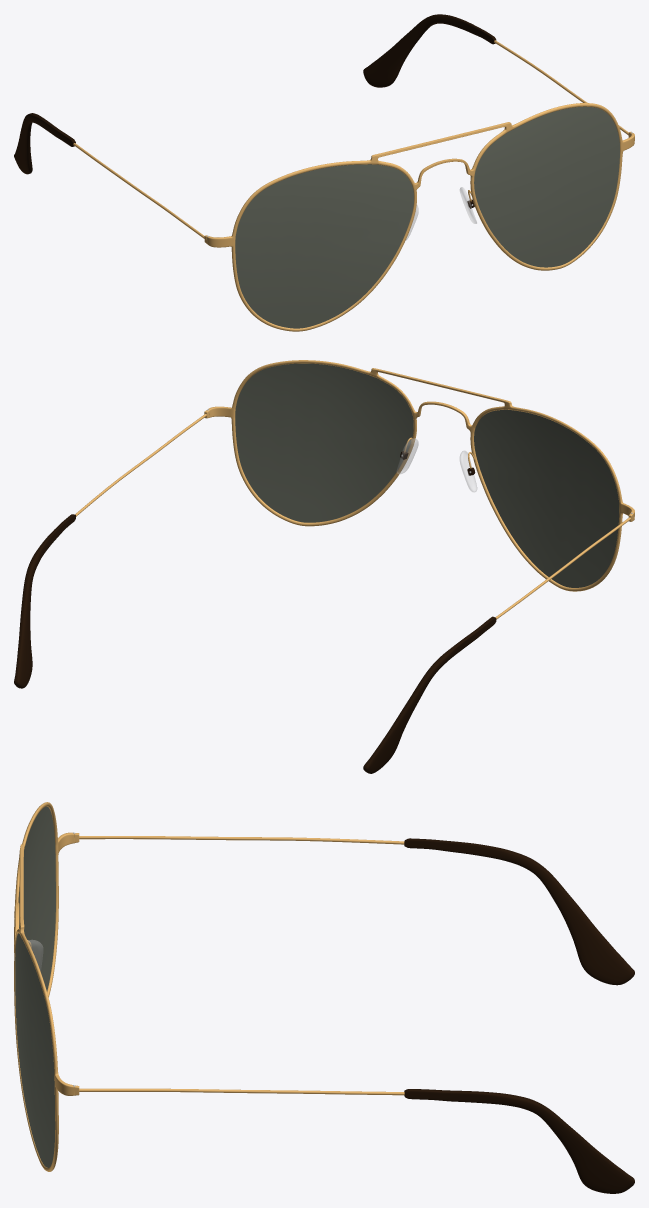
The model's file is glasses7.glb.
3 renders of one model, top to bottom at view 1: azimuth 30°, elevation 25°; view 2: azimuth 150°, elevation 25°; view 3: azimuth 270°, elevation 25°, orthographic. The views are drawn at different scales.
Parts seen in each view (by area): view 1: Aviators; view 2: Aviators; view 3: Aviators.
Boxes of the visible parts, x1,y1,x2,y2 form: Aviators: (14, 14, 634, 331); Aviators: (14, 360, 634, 773); Aviators: (14, 802, 634, 1193).
Bounding box in the file's own units: 13.96 × 5.22 × 14.4.
